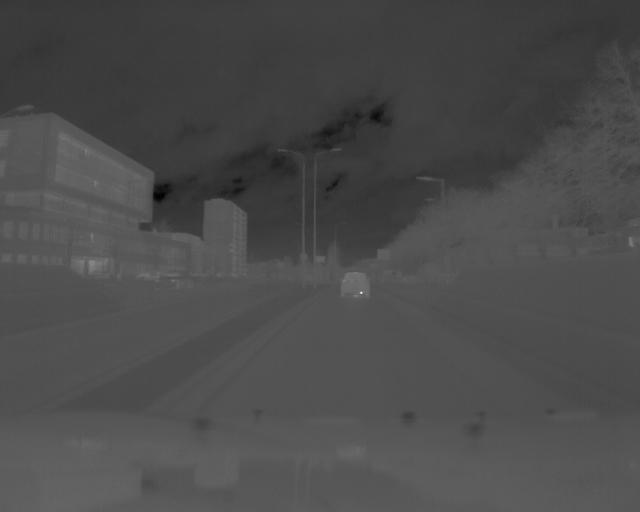car: (339, 269, 374, 299)
